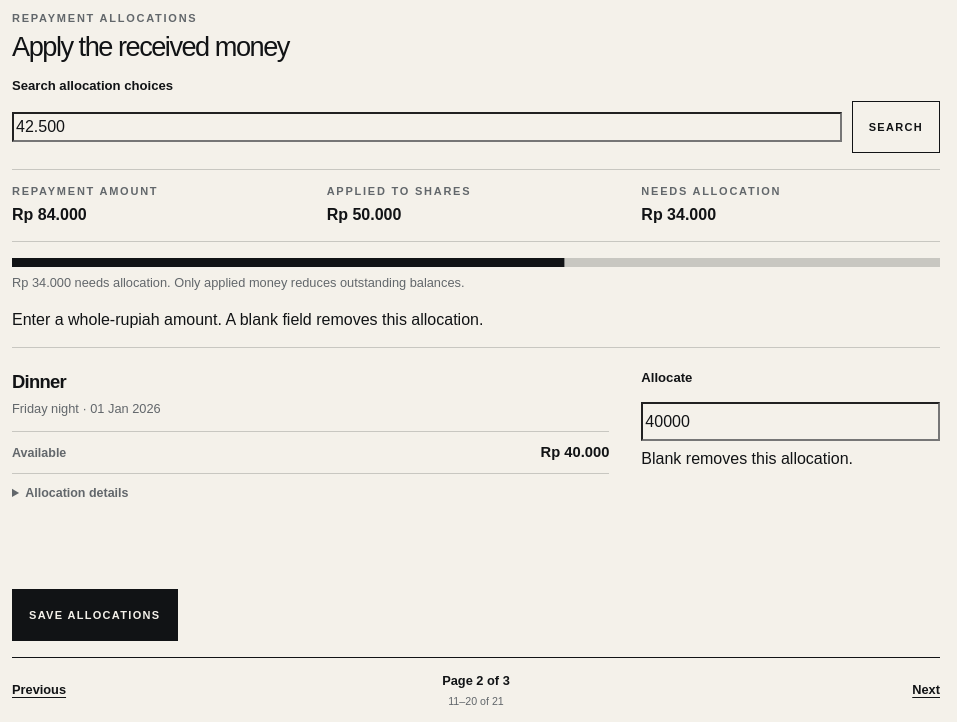
it: RepaymentAllocationEditor › keeps off-page allocations in the live totals and preserves search context
Expected: the search field labelled "Search allocation choices" holds "42.500", [12,112,842,142]
Expected: the form named "allocationPage" holds "2", [12,308,940,641]
Replace the text in the field named "Amount to allocate to Dinner" with "12000" at (791, 422), box [641,402,940,441]
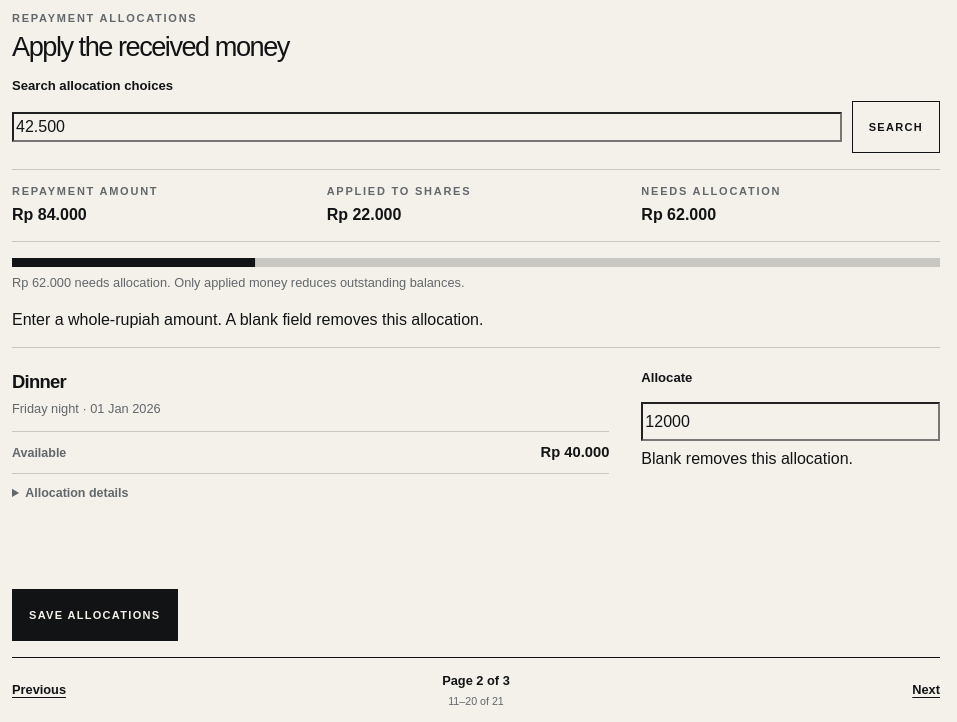
Now the text "Rp 62.000 needs allocation. Only applied money reduces outstanding balances." is shown, box [12,275,464,290]
